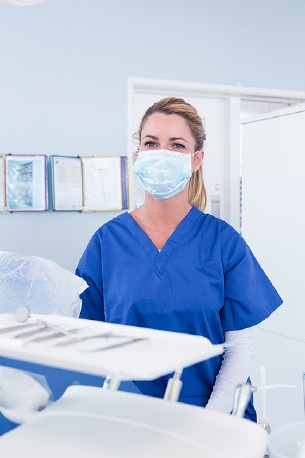Mask: (138, 130, 201, 194)
